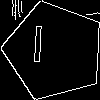I: (29, 26, 46, 72)
